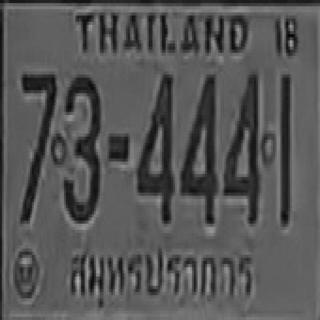N01: (279, 71, 290, 224)
N03: (60, 73, 100, 219)
N04: (135, 71, 173, 221), (179, 73, 217, 222), (223, 70, 259, 222)
N07: (19, 73, 57, 222), (21, 71, 56, 180)
P57: (63, 244, 260, 318)
